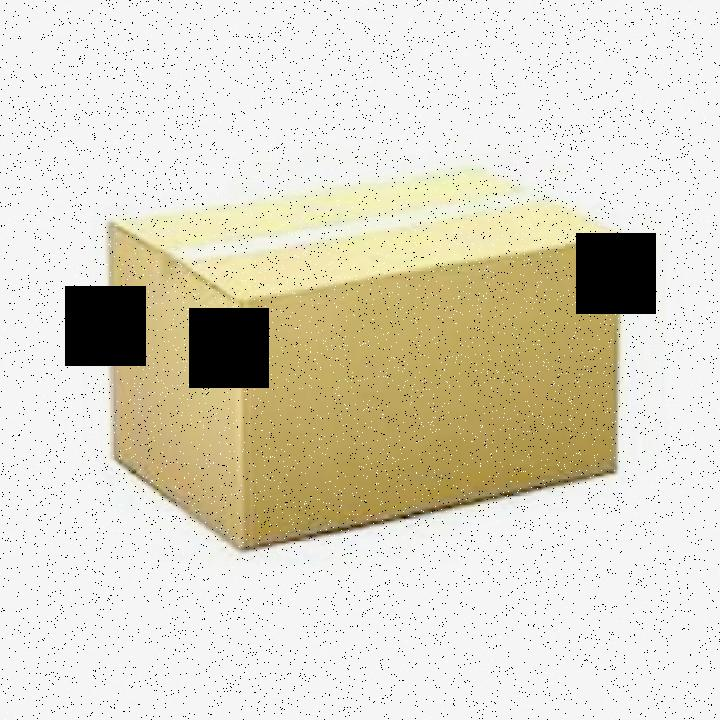box: (98, 173, 622, 554)
